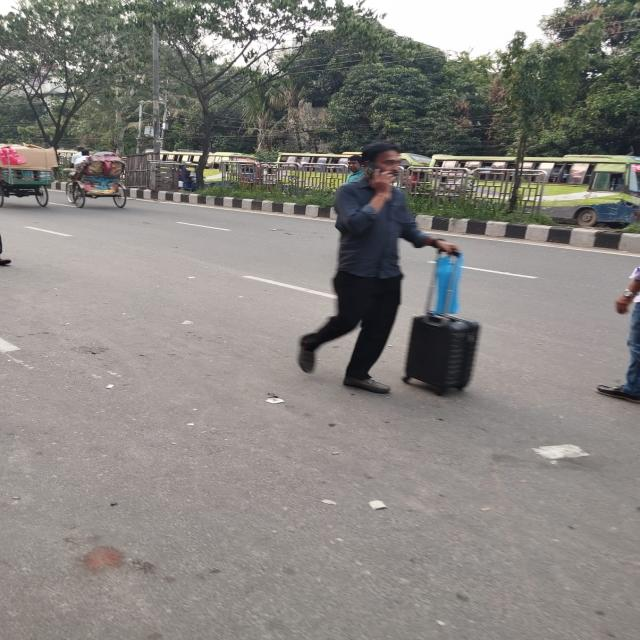person: (297, 142, 466, 392), (595, 241, 640, 404), (340, 154, 366, 183)
